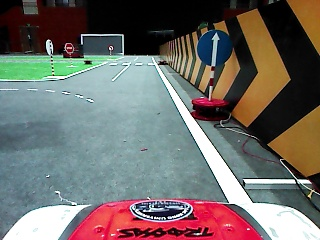straight: (196, 29, 234, 68)
